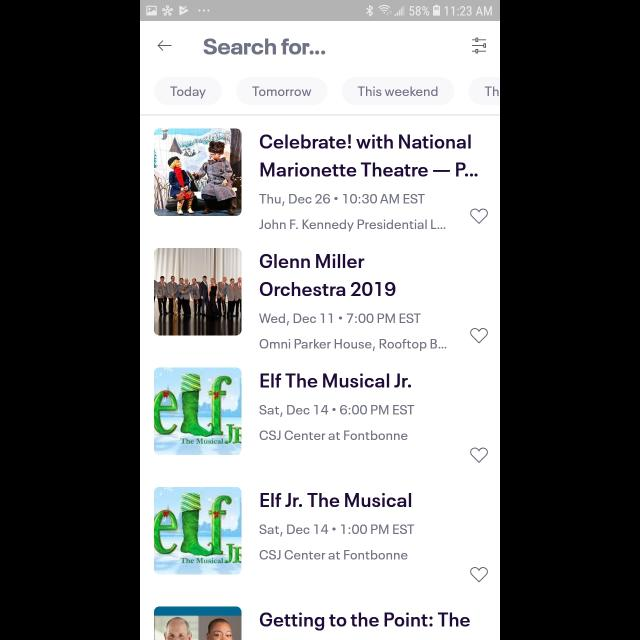icon: (470, 208, 488, 224), (470, 328, 488, 344), (470, 448, 488, 464), (470, 566, 488, 582), (472, 38, 486, 54), (158, 40, 172, 51)
image: (154, 128, 242, 216), (154, 248, 242, 336), (154, 368, 242, 456), (154, 486, 242, 574), (154, 606, 242, 640)
text: (260, 134, 478, 178), (259, 313, 447, 351), (259, 194, 445, 232), (260, 255, 396, 298), (260, 404, 414, 440), (260, 524, 414, 560), (260, 612, 470, 630), (260, 492, 412, 508), (260, 374, 412, 388), (203, 39, 325, 55)
textbutton: (342, 77, 454, 105), (236, 77, 328, 105), (154, 77, 222, 105), (468, 77, 499, 105)
uppertaskbar: (140, 1, 500, 22)
